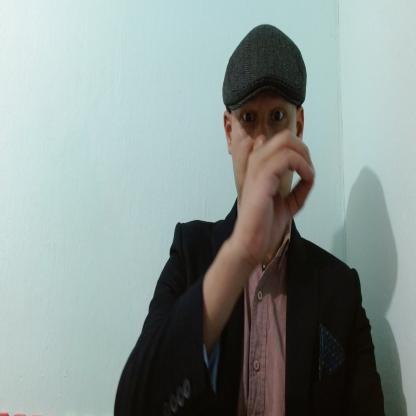O: (238, 128, 316, 267)
